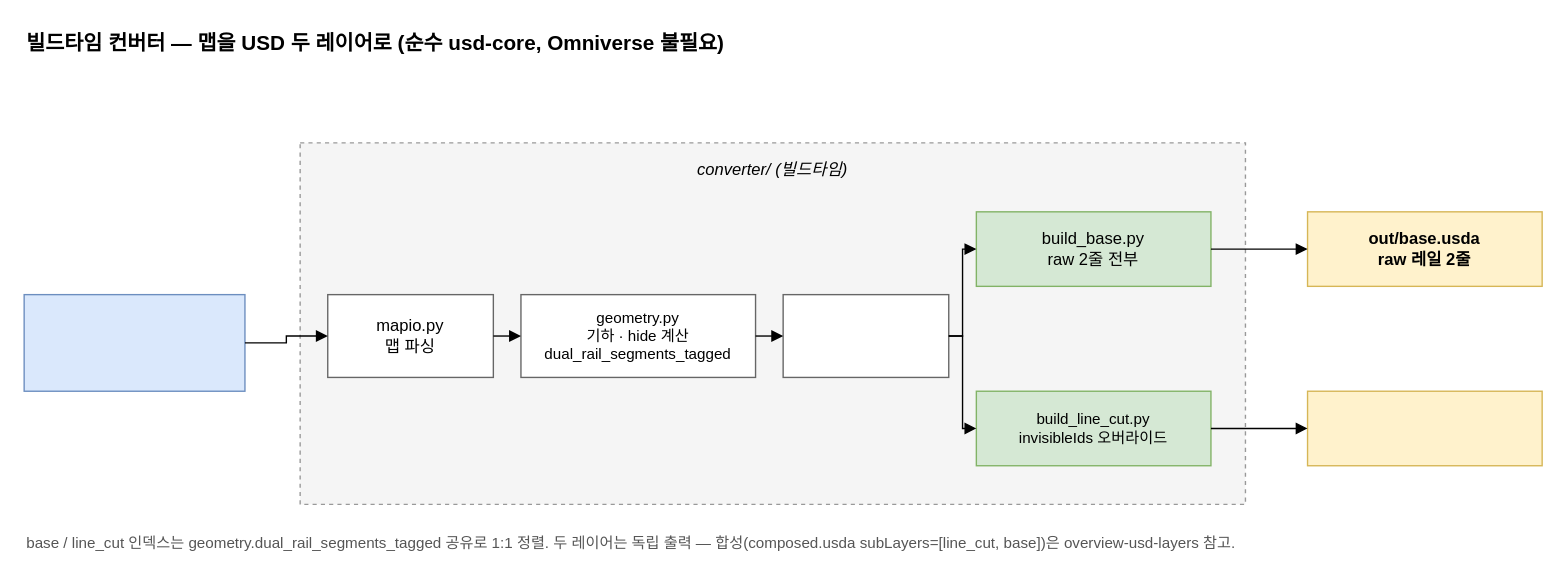
This 1566x582 diagram has some shape labels left out. The centre of each missing label's shape, as x and y in pixels:
"input/fab_map/*.map nodes · edges · loops · station" goes at pixel 134 342.
"out/line_cut.usda over invisibleIds" goes at pixel 1424 428.
"usd_build.py USD prim 생성" goes at pixel 865 335.
